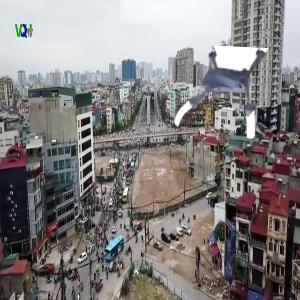drone: (171, 47, 269, 145)
